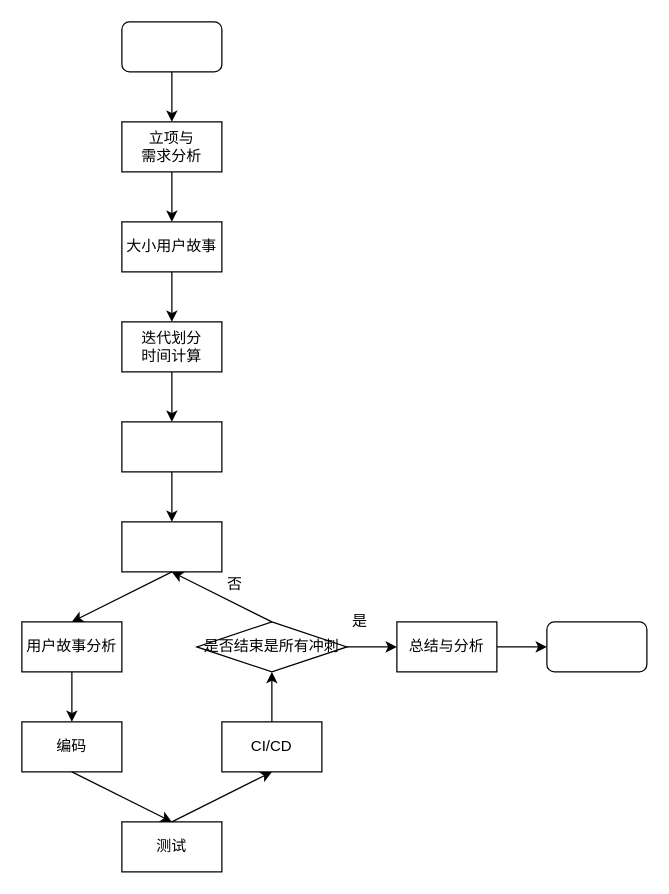
The diagram is 669 pixels wide and 894 high, and some of its shapes have lost their labels. Each missing label, with the centre of its shape:
开始: the point at 171,46
开始新冲刺: the point at 171,546
结束: the point at 596,646
项目总体规划: the point at 171,446
